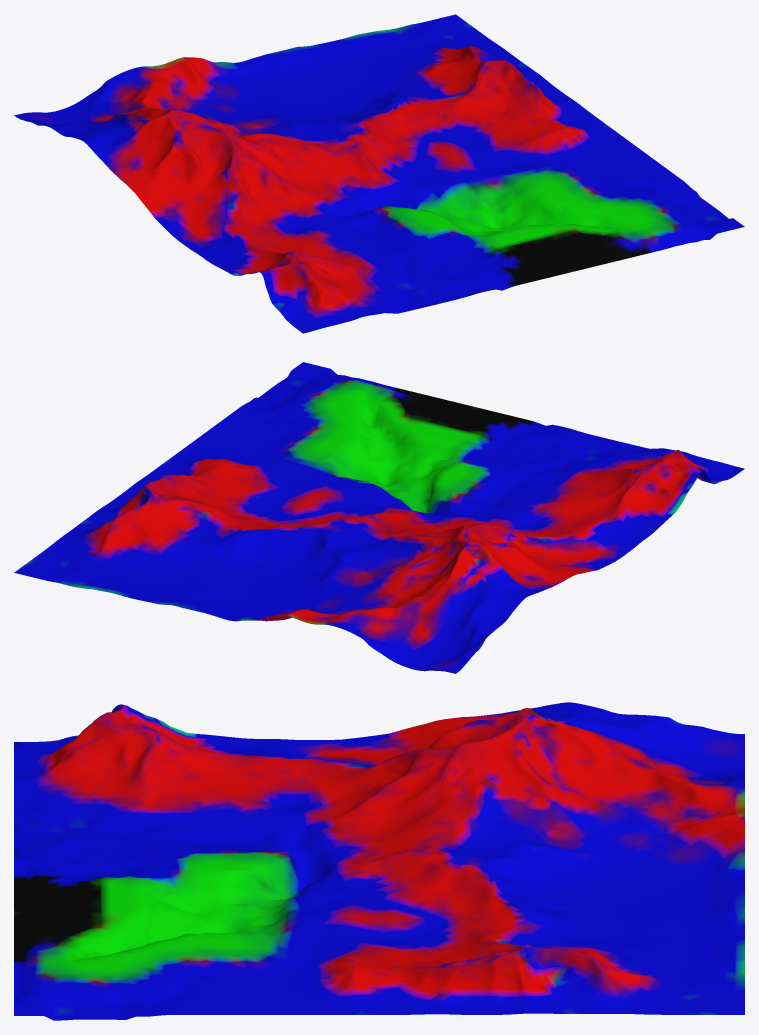
File: dixing.FBX
The picture shows the model from 3 angles, top to bottom: view 1: azimuth 30°, elevation 25°; view 2: azimuth 150°, elevation 25°; view 3: azimuth 270°, elevation 25°; orthographic projection. The views are drawn at different scales.
Visible parts, largest first — view 1: SM_Cartoon_Surface_YLGMCZ_001_LOD0; view 2: SM_Cartoon_Surface_YLGMCZ_001_LOD0; view 3: SM_Cartoon_Surface_YLGMCZ_001_LOD0.
Boxes of the visible parts, box(x1,y1,x2,y2) form: SM_Cartoon_Surface_YLGMCZ_001_LOD0: box(14, 14, 744, 333); SM_Cartoon_Surface_YLGMCZ_001_LOD0: box(14, 362, 744, 673); SM_Cartoon_Surface_YLGMCZ_001_LOD0: box(14, 702, 744, 1020).
Size of the model in its own units: 92160 by 17028 by 104448.
